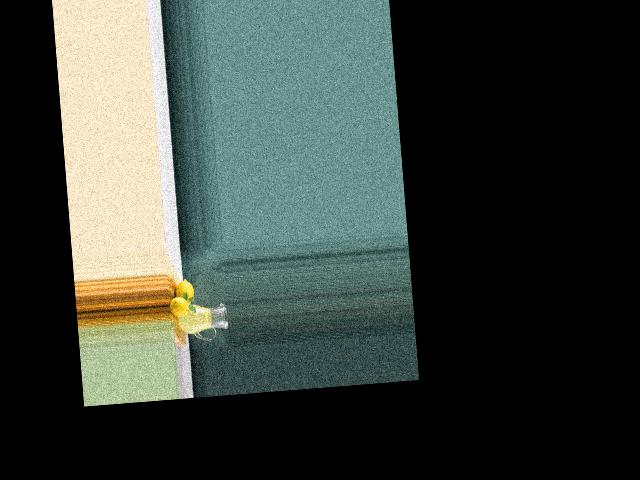lemon: (169, 292, 190, 318)
